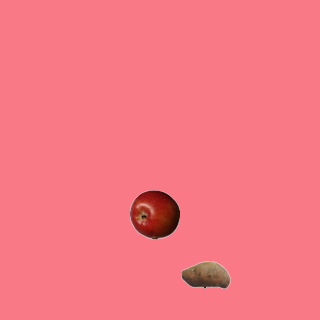Apple Braeburn: (129, 189, 179, 239)
Potato Sweet: (180, 249, 230, 299)
